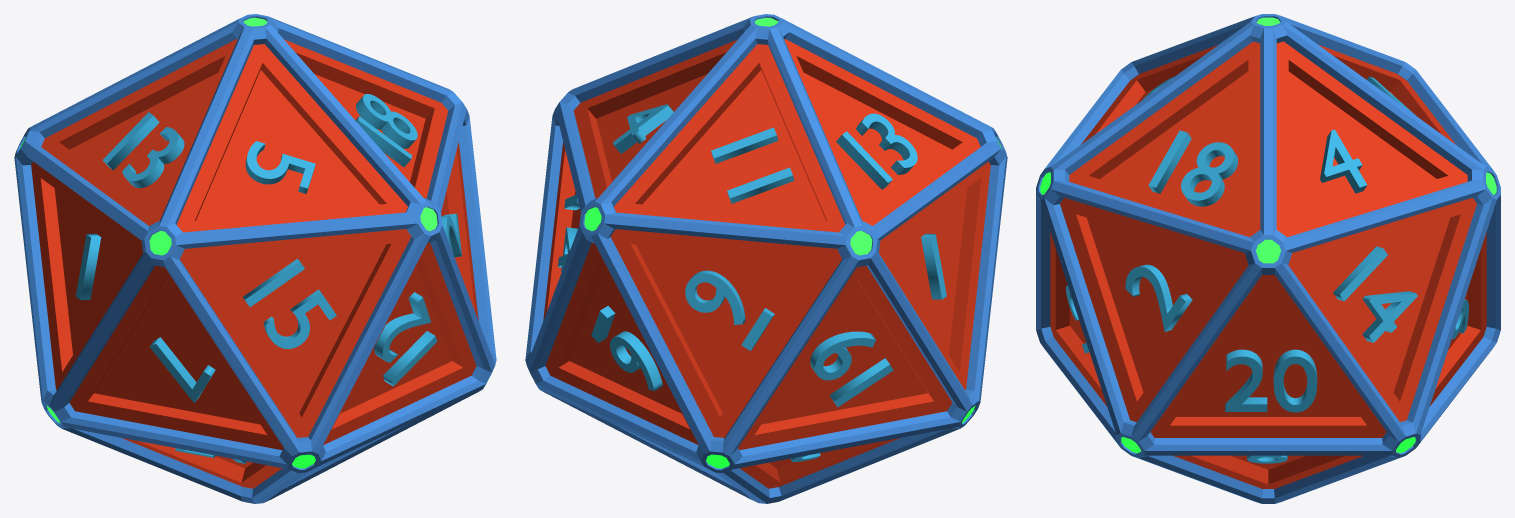
The picture shows the model from 3 angles, left to right: view 1: azimuth 30°, elevation 25°; view 2: azimuth 150°, elevation 25°; view 3: azimuth 270°, elevation 25°; orthographic projection.
Visible parts, largest first — view 1: d20 die, d20 outline, 13_numbers_0, 18_numbers_0, 12_numbers_0, 15_numbers_0, 5_numbers_0, 7_numbers_0, 1_numbers_0, 2_numbers_0; view 2: d20 die, d20 outline, 19_numbers_0, 13_numbers_0, 11_numbers_0, 9_numbers_0, 6_numbers_0, 4_numbers_0, 1_numbers_0, 14_numbers_0, 9 underscore, 6 underscore; view 3: d20 die, d20 outline, 20_numbers_0, 18_numbers_0, 14_numbers_0, 2_numbers_0, 4_numbers_0.
Boxes of the visible parts, x1,y1,x2,y2 form: d20 die: (31,39,478,488); d20 outline: (14,14,496,503); 13_numbers_0: (103,112,184,188); 18_numbers_0: (355,94,417,167); 12_numbers_0: (374,292,437,386); 15_numbers_0: (243,259,336,348); 5_numbers_0: (245,141,315,193); 7_numbers_0: (149,337,215,403); 1_numbers_0: (75,233,101,300); 2_numbers_0: (441,213,461,257); d20 die: (543,39,990,488); d20 outline: (525,14,1007,503); 19_numbers_0: (810,331,893,407); 13_numbers_0: (836,113,917,189); 11_numbers_0: (711,127,794,203); 9_numbers_0: (685,270,745,324); 6_numbers_0: (610,331,662,390); 4_numbers_0: (613,104,673,153); 1_numbers_0: (921,233,946,299); 14_numbers_0: (558,194,579,272); 9 underscore: (741,308,774,350); 6 underscore: (591,306,615,342); d20 die: (1050,41,1486,488); d20 outline: (1036,14,1500,503); 20_numbers_0: (1225,349,1317,412); 18_numbers_0: (1148,130,1237,206); 14_numbers_0: (1333,246,1417,342); 2_numbers_0: (1125,264,1192,331); 4_numbers_0: (1320,129,1367,193).
Bounding box in the file's own units: 1.87 × 2.03 × 1.79.
